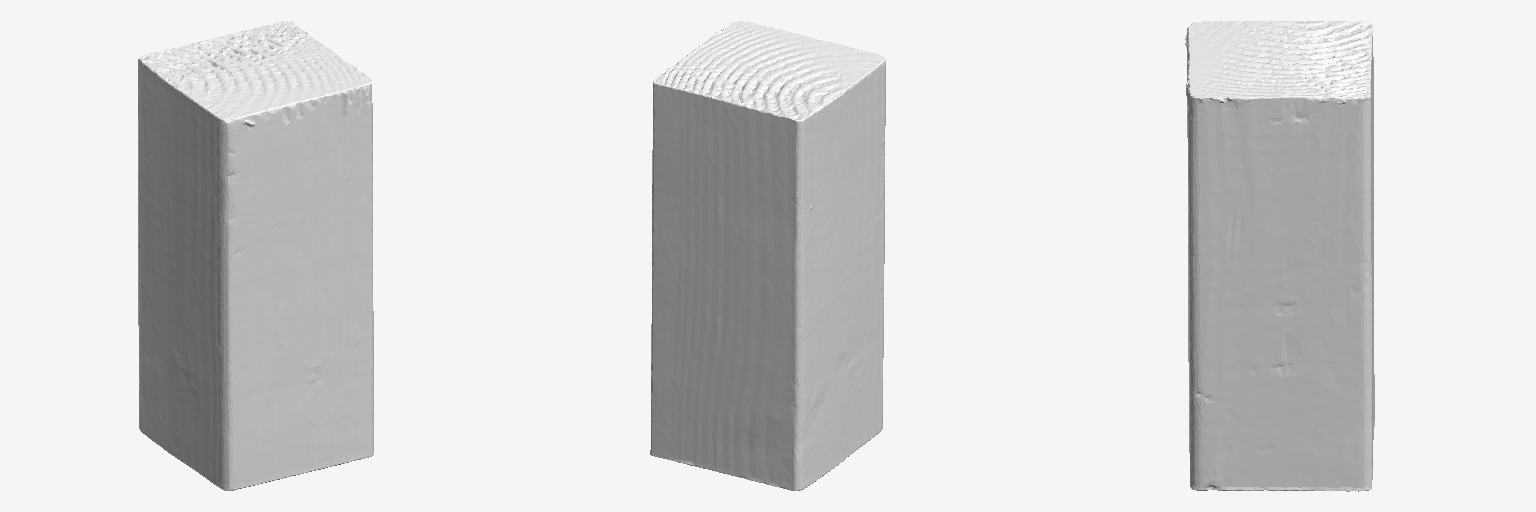
The robot description file, URDF, robot "knife":
<robot name="knife">
	<link name="base_link">
		<visual>
			<origin xyz="-0.008445076147284661 0.029092631283473027 -0.005000385834128536" rpy="0.0 0.0 0.0" />
			<geometry>
				<mesh filename="032_knife/google_16k/textured.obj" scale="1 1 1" />
			</geometry>
			<material name="texture">
				<color rgba="1.0 1.0 1.0 1.0" />
			</material>
		</visual>
		<collision>
			<origin xyz="-0.008445076147284661 0.029092631283473027 -0.005000385834128536" rpy="0.0 0.0 0.0" />
			<geometry>
				<mesh filename="032_knife/google_16k/textured_vhacd.obj" scale="1 1 1" />
			</geometry>
		</collision>
		<inertial>
			<mass value="0.031" />
			<inertia ixx="1e-3" ixy="0.0" ixz="0.0" iyy="1e-3" iyz="0.0" izz="1e-3" />
		</inertial>
	</link>
</robot>

--- What the picture shows (computed from the rendered views, not written in the file) ---
Views: 3 orthographic renders of the robot side by side, from view 1: azimuth 30°, elevation 25°; view 2: azimuth 150°, elevation 25°; view 3: azimuth 270°, elevation 25°.
Robot: knife — 1 links, 0 joints (none); root link base_link; default pose: all joints at 0.
Visible links, largest first — view 1: base_link; view 2: base_link; view 3: base_link.
Link boxes in pixels (x1,y1,x2,y2): base_link: (138,21,373,490); base_link: (650,21,885,490); base_link: (1185,20,1374,491).
Size in the robot's own frame: 0.0906 by 0.0899 by 0.206 metres.
Meshes: 1 distinct files referenced, 1 mesh visuals loaded (1 OBJ).